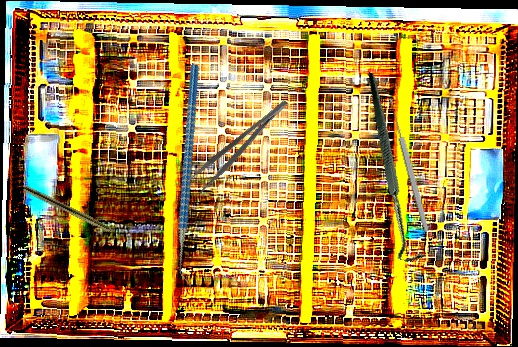Chopper: (110, 63, 274, 289)
Dressing Forceps: (186, 97, 297, 195)
Handpiece: (22, 184, 131, 244)
Hook Surgical: (319, 72, 471, 266)
Surgical Spoon: (387, 97, 431, 233)
